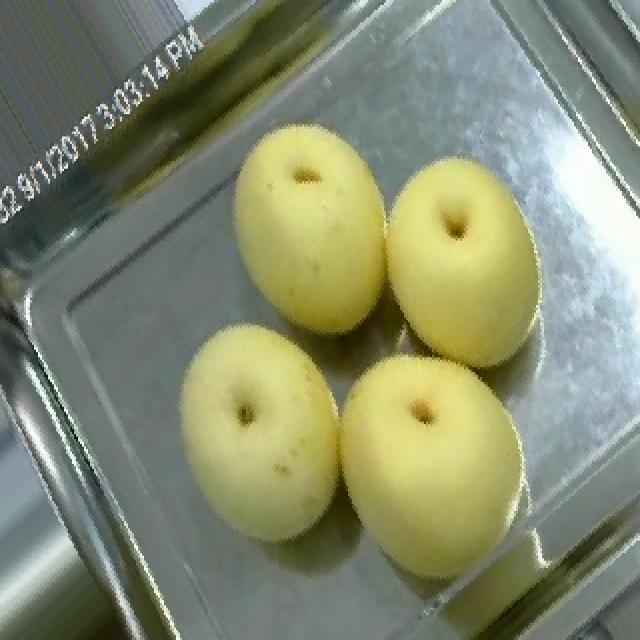Fruit: (296, 318, 564, 612), (150, 303, 370, 568), (202, 99, 410, 355), (364, 131, 564, 392)
